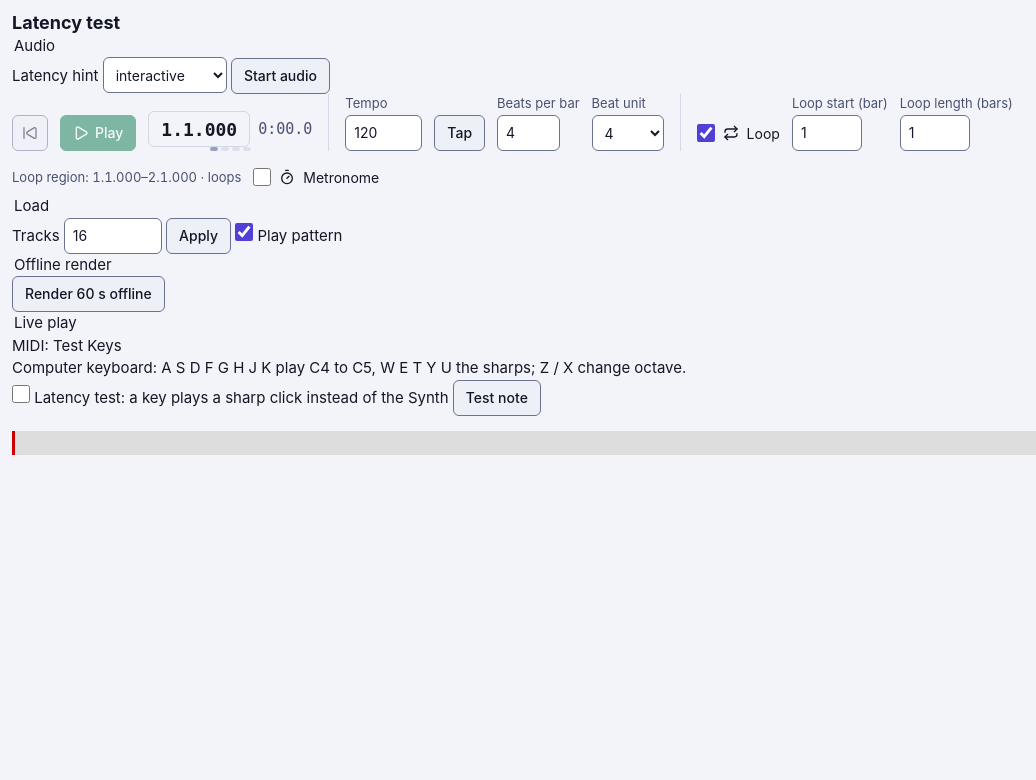
it: the offline render test reports how much faster than real time it ran
Click the button "Start audio".
click(280, 76)  # box top-left (231, 58), bottom-right (330, 94)
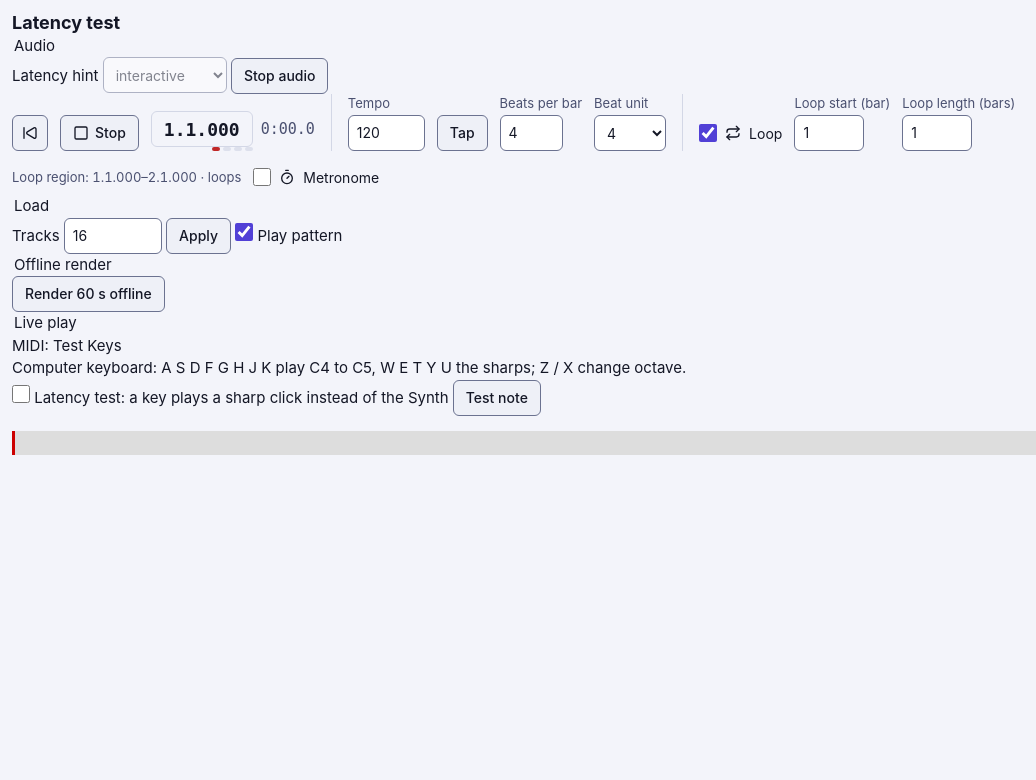
Check: the button "Stop audio" is shown, box top-left (231, 58), bottom-right (328, 94)
Click the button "Render 60 s offline".
click(88, 294)  # box top-left (12, 276), bottom-right (165, 312)
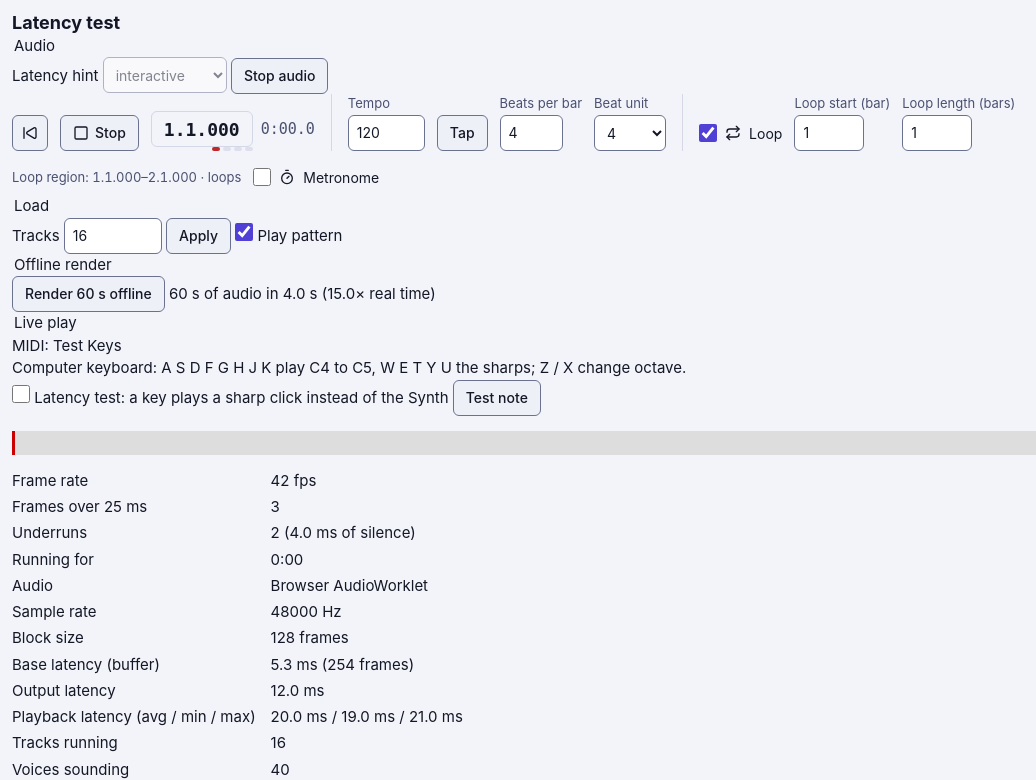
Check: the text "60 s of audio in 4.0 s (15.0× real time)" is shown, box top-left (169, 284), bottom-right (436, 303)
